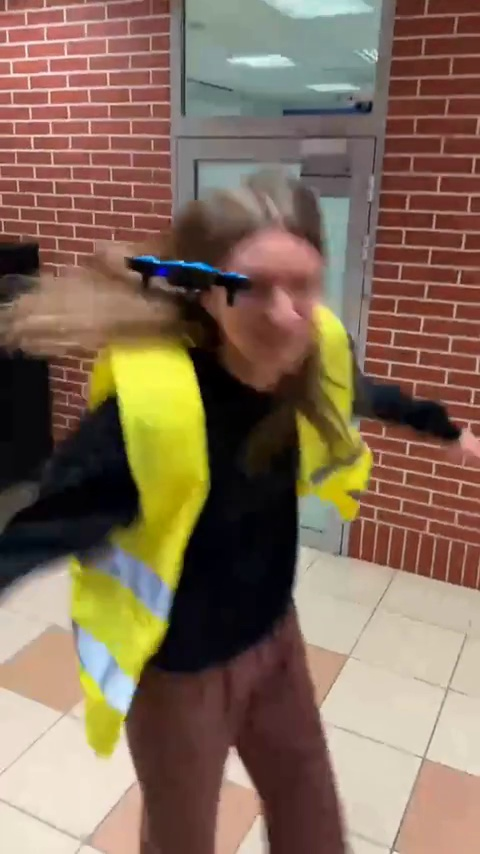drone: (125, 250, 258, 309)
vest: (74, 162, 397, 850)
